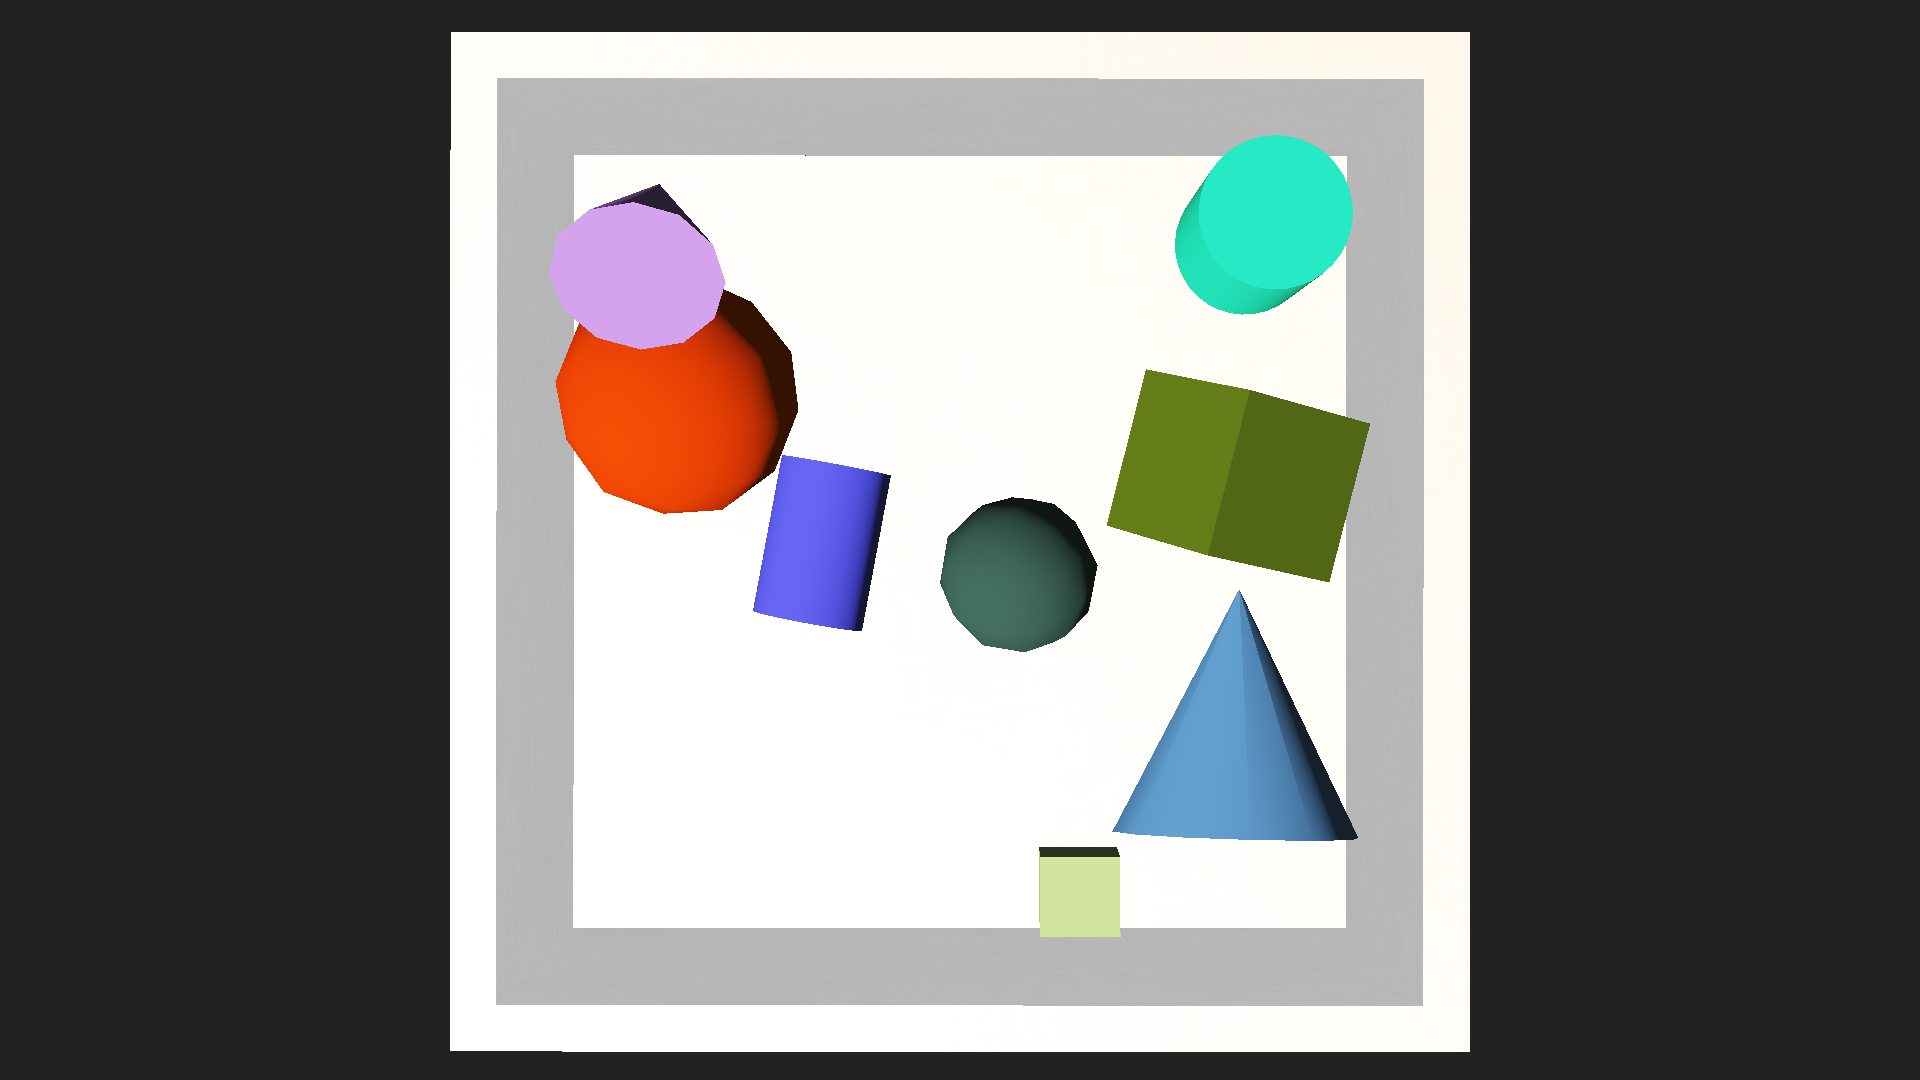3: (1100, 359, 1386, 583), (1036, 845, 1121, 936)
cone: (1174, 135, 1352, 314), (748, 452, 893, 632)
cylinder: (1102, 574, 1386, 865), (545, 88, 742, 356)
sphere: (556, 273, 799, 517), (938, 493, 1097, 653)
